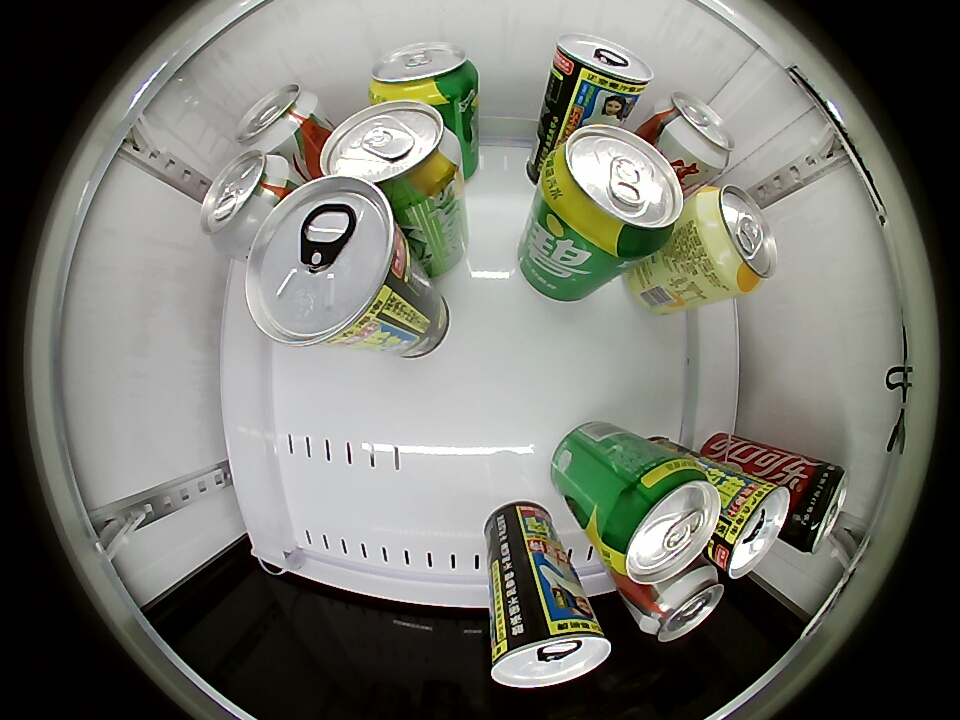jianlibao: (200, 148, 291, 250), (638, 564, 725, 642), (656, 92, 734, 173), (235, 85, 318, 153)
lingdukele: (786, 460, 849, 555)
mangguoxiaolao: (691, 183, 777, 293)
quchenshixiangcao: (319, 100, 460, 200)
xuebi2: (540, 124, 683, 260), (593, 452, 722, 585), (369, 41, 476, 106)
yezhi: (244, 174, 409, 348), (491, 606, 612, 689), (710, 476, 790, 581), (551, 34, 653, 104)
